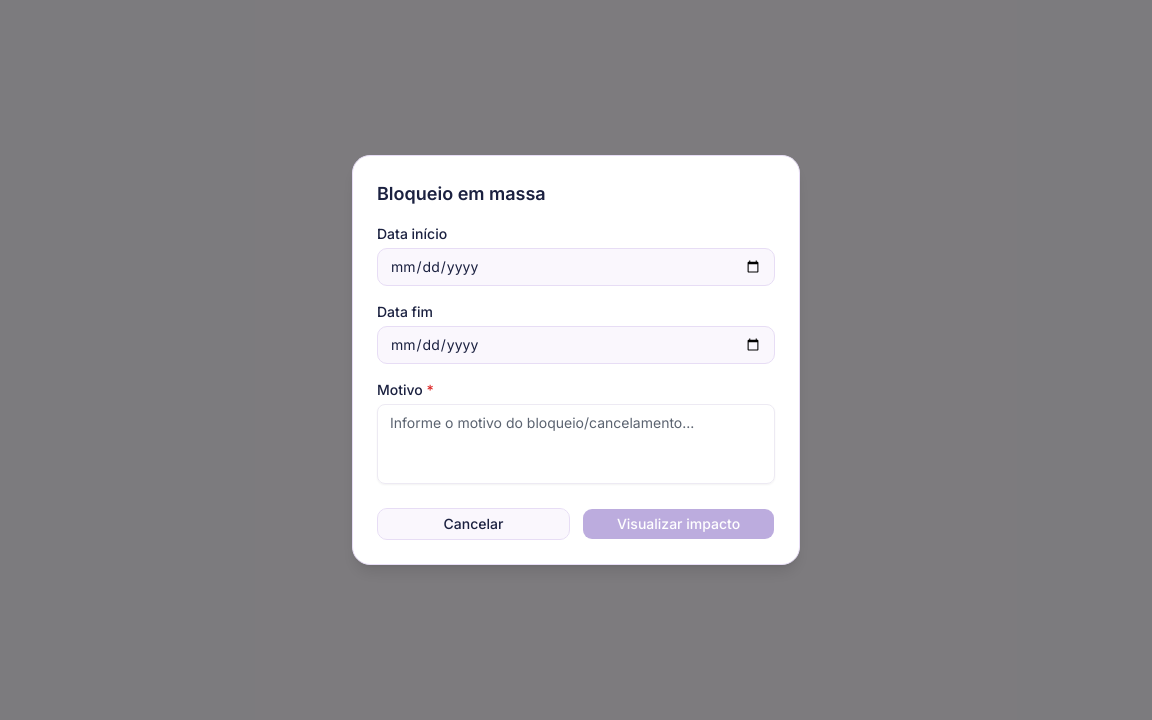
it: BulkBlockModal — previa real (item 008) › deve descartar a previa em voo quando o periodo muda antes da resposta
The width and height of the screenshot is (1152, 720).
Type "2026-04-01" into the date field with test id "modal-bulk-block-start-input" at {"x": 576, "y": 267}, box [377,248,775,286]
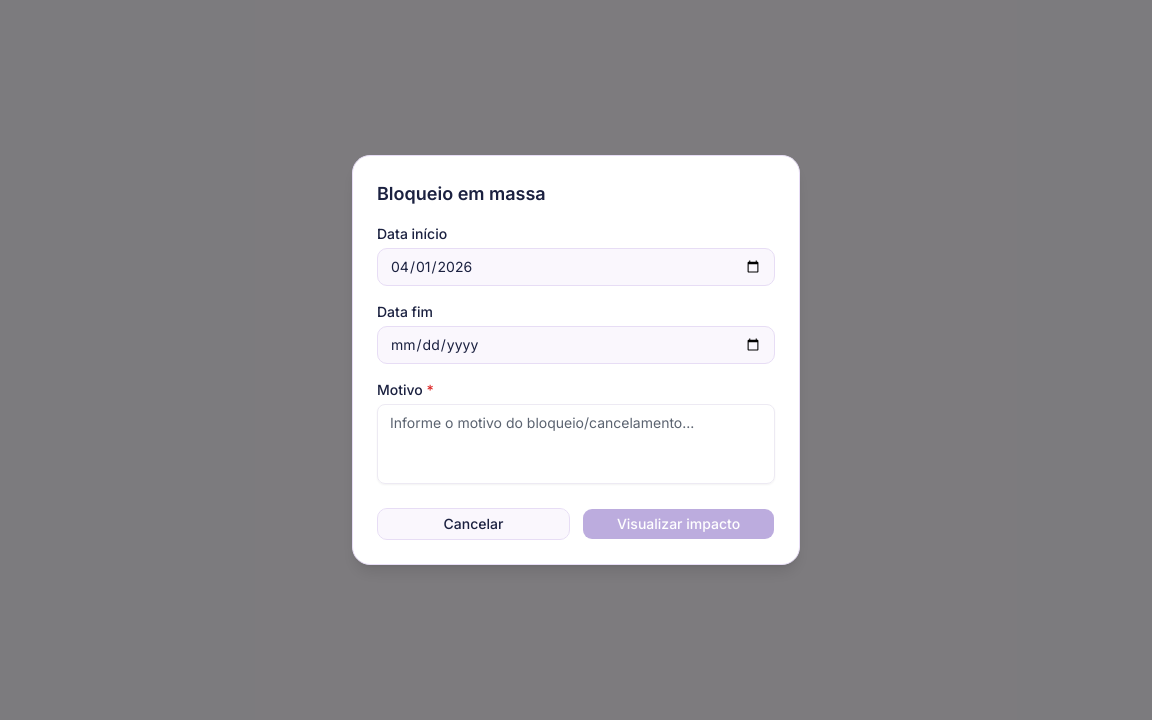
Type "2026-04-30" into the date field with test id "modal-bulk-block-end-input" at {"x": 576, "y": 345}, box [377,326,775,364]
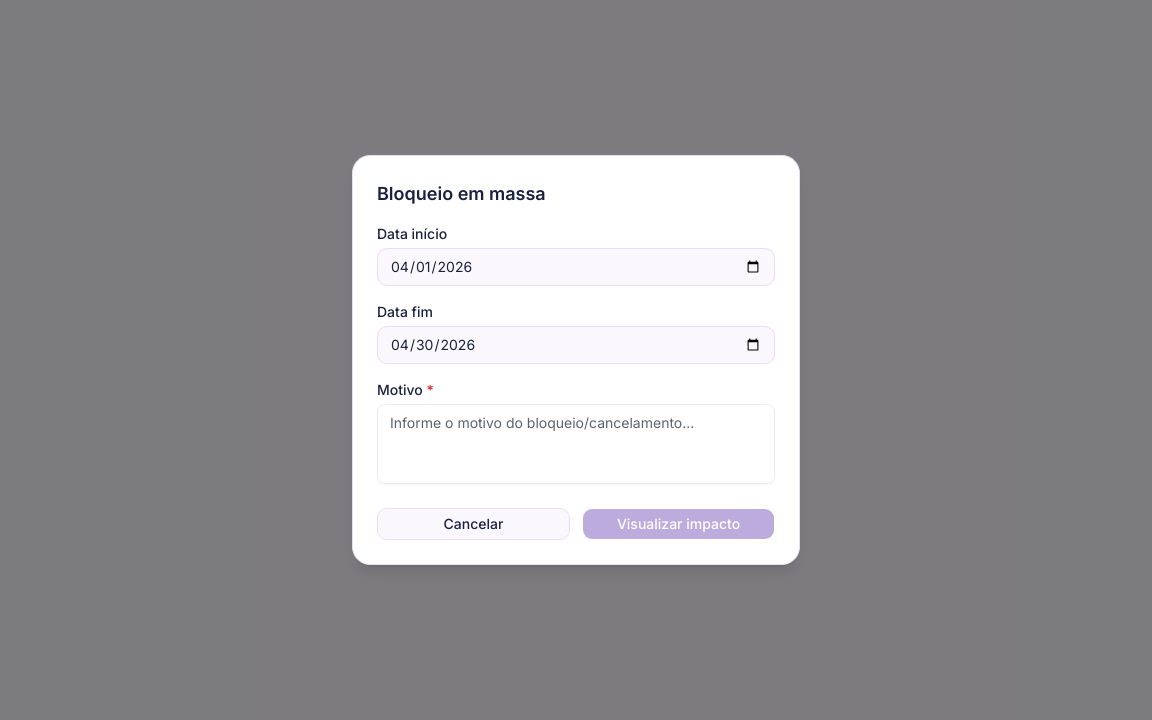
Type "Ferias do professor" into the text box with test id "modal-bulk-block-reason-input" at {"x": 576, "y": 444}, box [377,404,775,484]
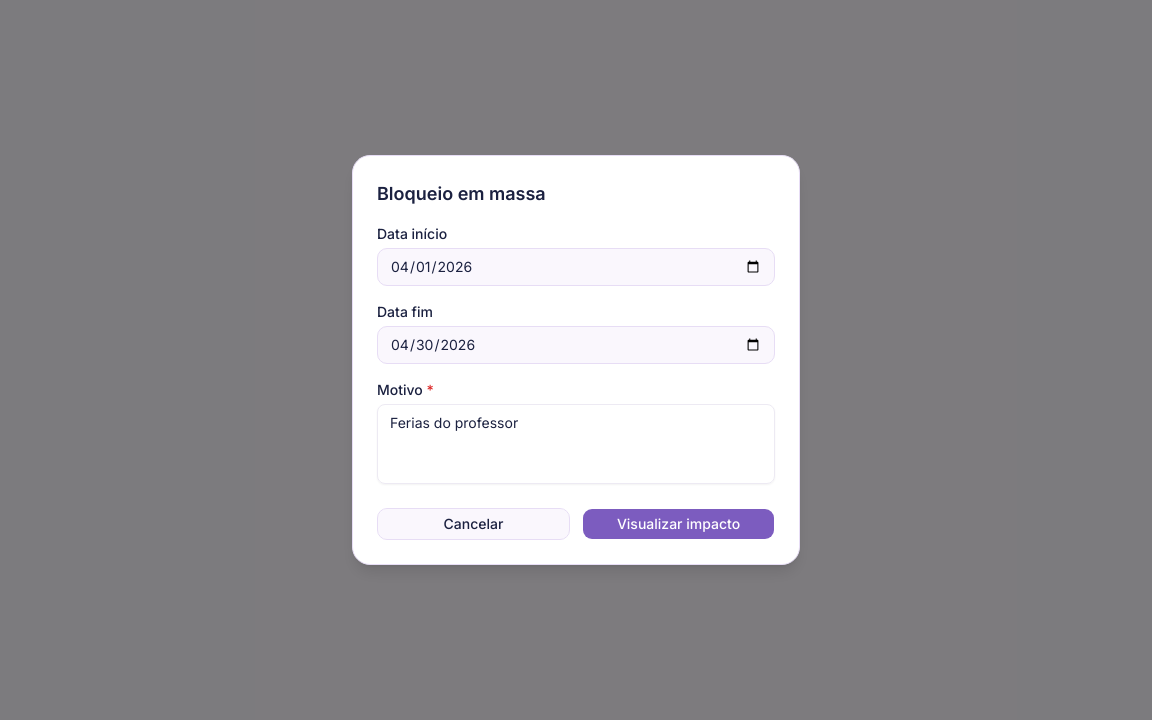
Click the button with test id "modal-bulk-block-preview-button" at {"x": 678, "y": 524}, box [582,508,775,540]
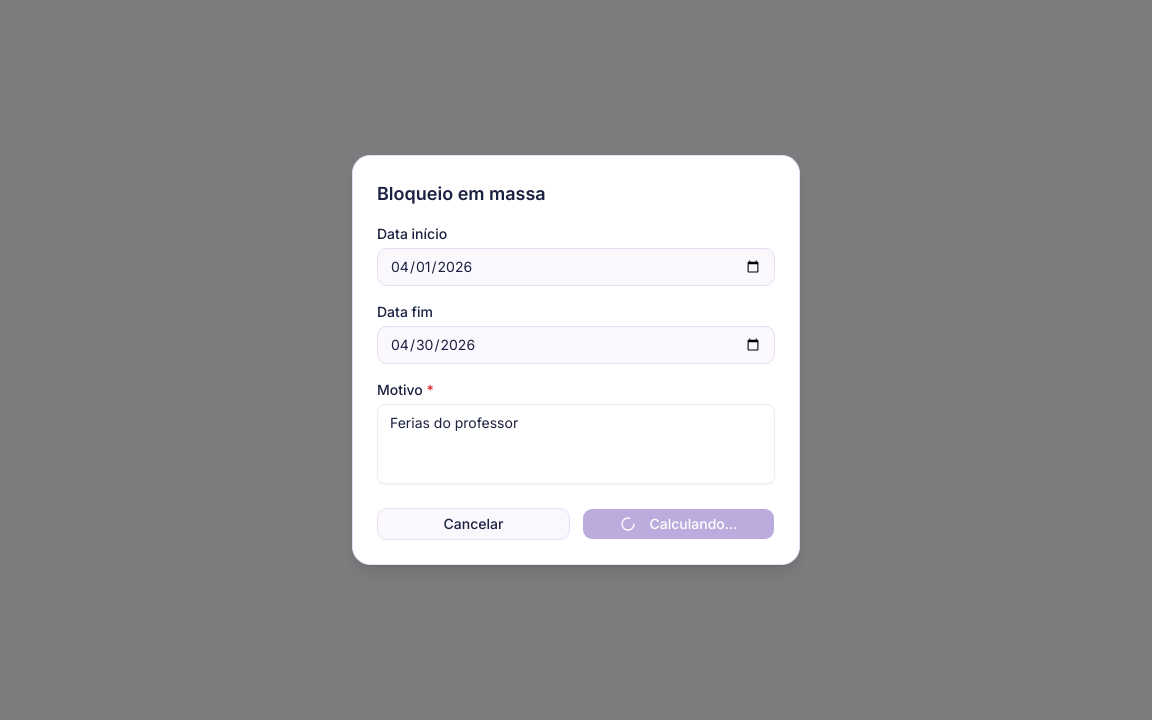
Type "2026-05-31" into the date field with test id "modal-bulk-block-end-input" at {"x": 576, "y": 345}, box [377,326,775,364]
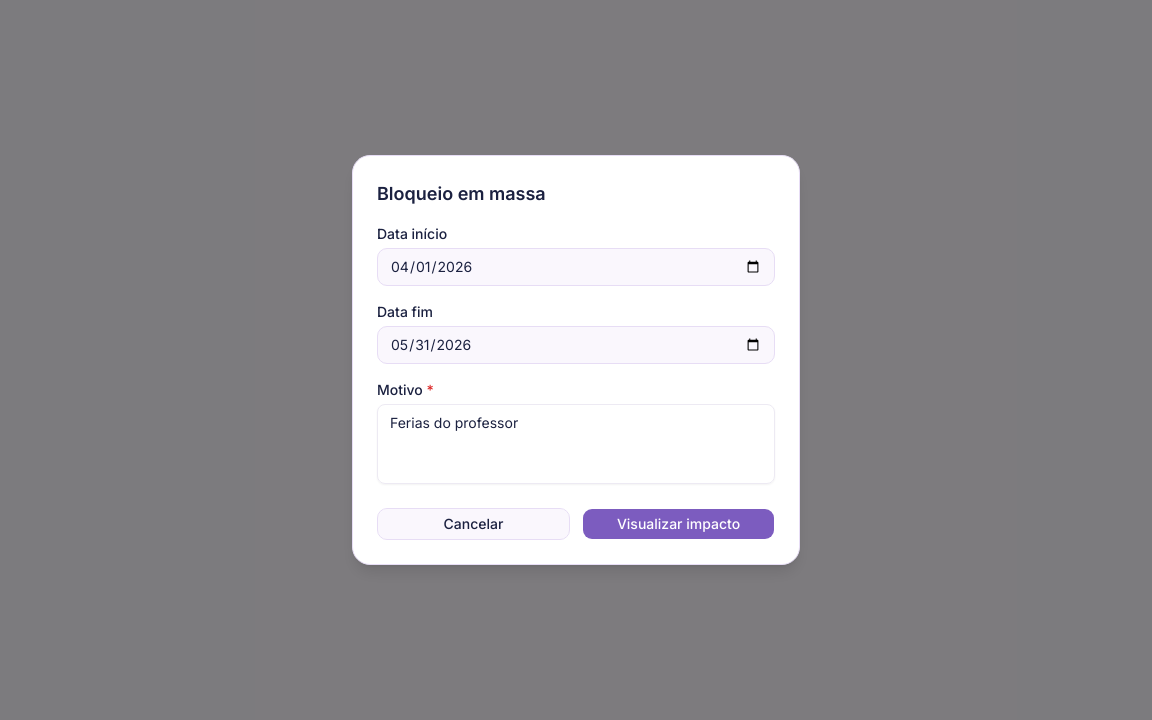
Expected: the button with test id "modal-bulk-block-preview-button" is enabled, [582,508,775,540]
